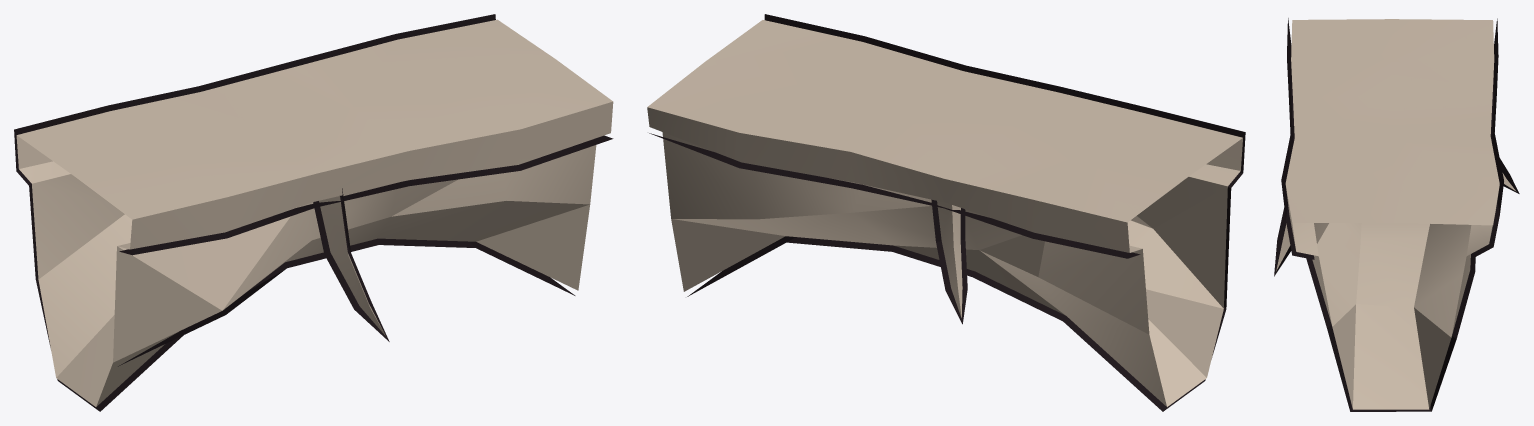
File: SM_Trail_Deck_12.fbx
3 renders of one model, left to right at view 1: azimuth 30°, elevation 25°; view 2: azimuth 150°, elevation 25°; view 3: azimuth 270°, elevation 25°, orthographic. The views are drawn at different scales.
Parts seen in each view (by area): view 1: SM_Trail_Deck_12; view 2: SM_Trail_Deck_12; view 3: SM_Trail_Deck_12.
Part boxes in pixels (x1,y1,x2,y2): SM_Trail_Deck_12: (14, 14, 613, 411); SM_Trail_Deck_12: (647, 14, 1245, 411); SM_Trail_Deck_12: (1274, 18, 1519, 411).
Size of the model in its own units: 12.03 by 5.38 by 6.12.
